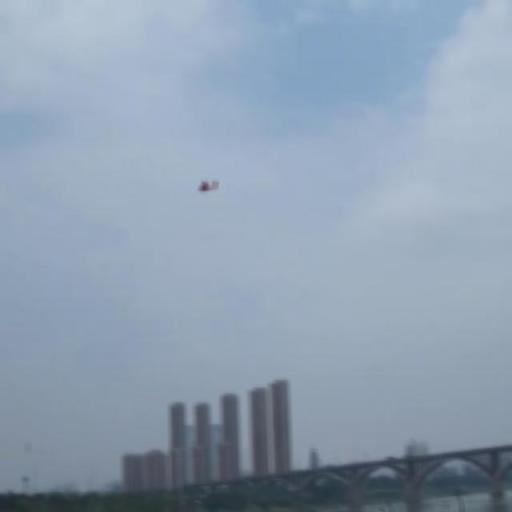uav: (196, 178, 222, 194)
